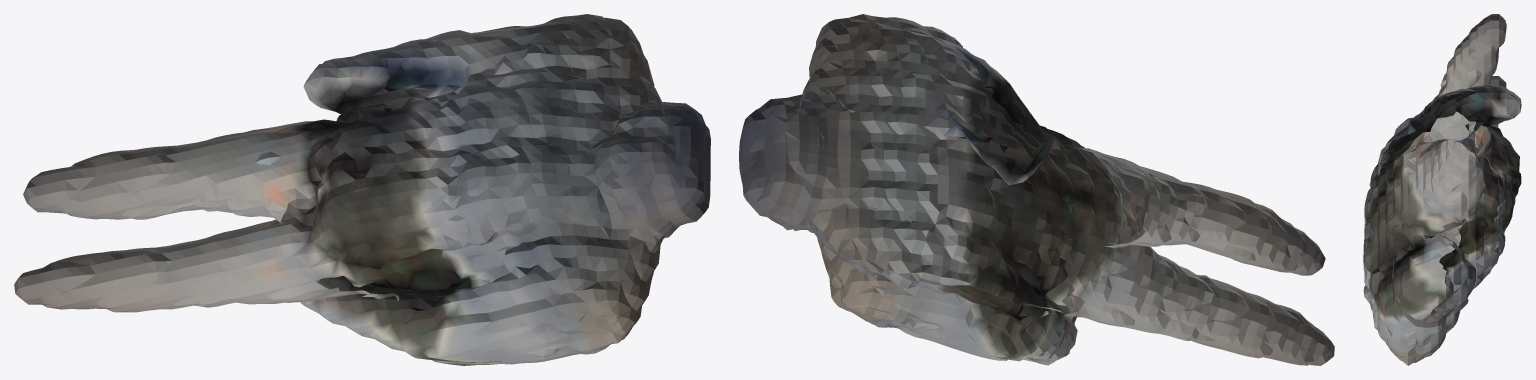
3 renders of one model, left to right at view 1: azimuth 30°, elevation 25°; view 2: azimuth 150°, elevation 25°; view 3: azimuth 270°, elevation 25°, orthographic. The views are drawn at different scales.
Visible parts, largest first — view 1: world; view 2: world; view 3: world.
Boxes of the visible parts, <box> form: world: <box>14,14,710,365</box>; world: <box>739,14,1334,365</box>; world: <box>1363,14,1521,365</box>.
Size of the model in its own units: 0.944 by 0.4469 by 0.2862.
